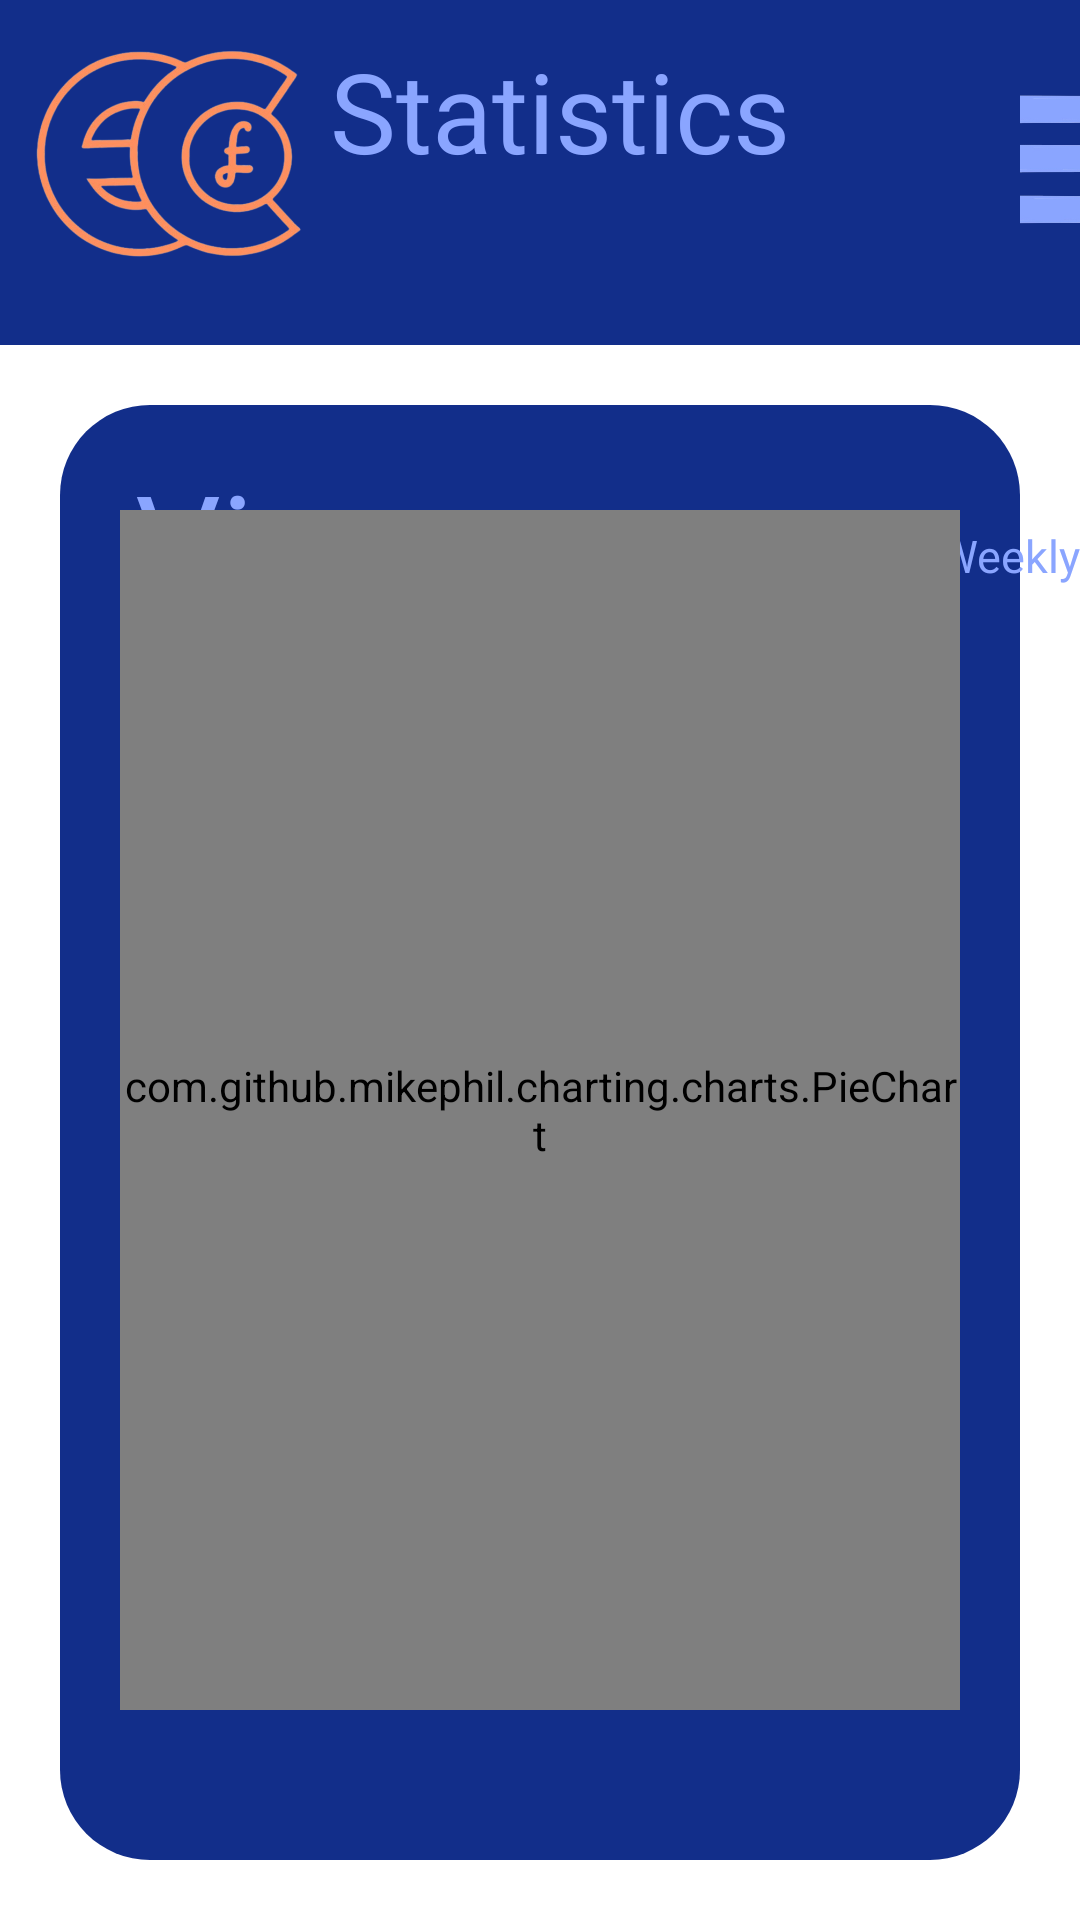

Locate icon controls on the screen. Image size 1080px×1920px, boxes as (x1, y1, x2, y2).
menu: (1020, 95, 1080, 223)
